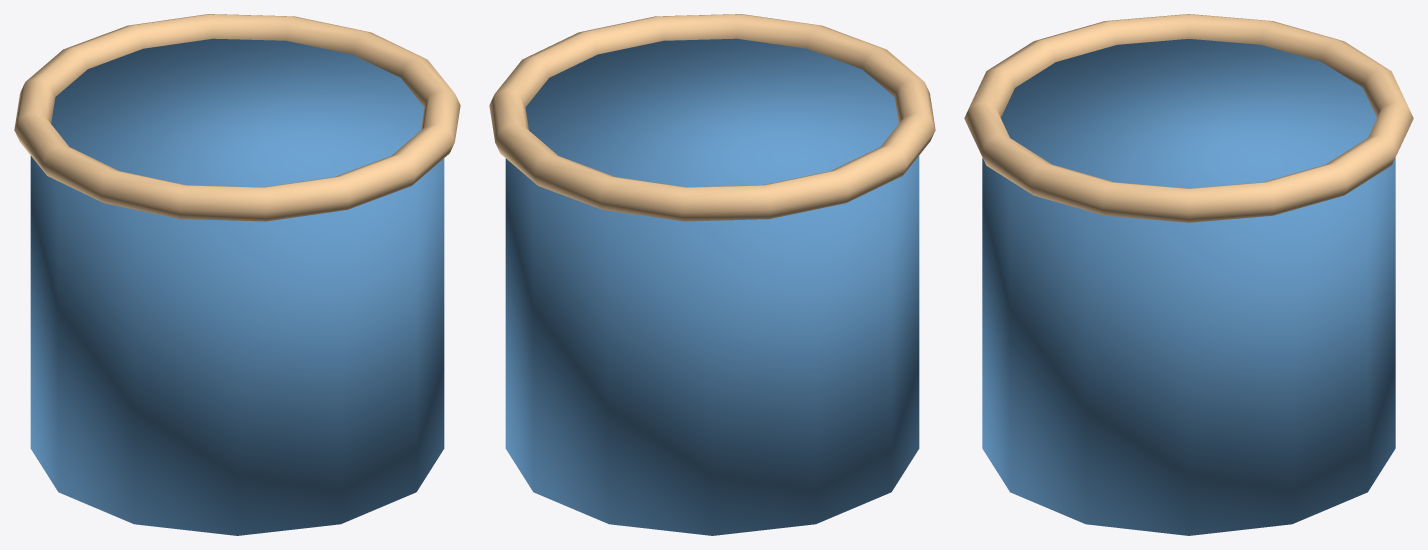
File: bucket.glb
3 views of the same model, side by side, from view 1: azimuth 30°, elevation 25°; view 2: azimuth 150°, elevation 25°; view 3: azimuth 270°, elevation 25° (orthographic).
Parts seen in each view (by area): view 1: bucket, bucket_rim; view 2: bucket, bucket_rim; view 3: bucket, bucket_rim.
Part boxes in pixels (x1,y1,x2,y2): bucket: [30, 38, 444, 535]; bucket_rim: [14, 14, 460, 221]; bucket: [505, 38, 919, 535]; bucket_rim: [489, 14, 935, 221]; bucket: [982, 39, 1395, 535]; bucket_rim: [964, 14, 1413, 222].
Size of the model in its own units: 0.37 by 0.315 by 0.37.
